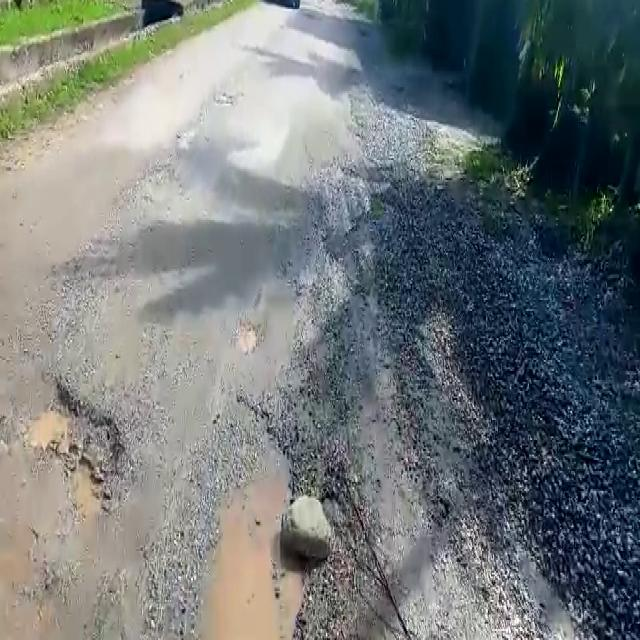Pothole: (196, 460, 309, 640), (24, 382, 136, 517)
